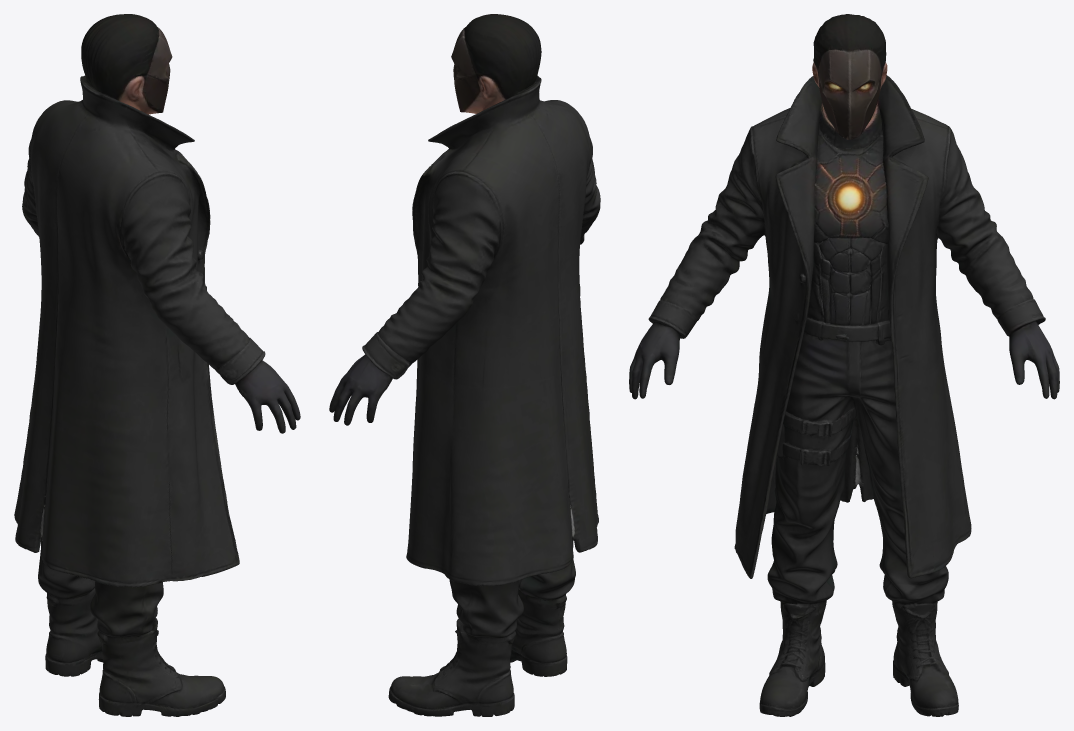
The model's file is arch.web.webp.glb.
3 renders of one model, left to right at view 1: azimuth 30°, elevation 25°; view 2: azimuth 150°, elevation 25°; view 3: azimuth 270°, elevation 25°, orthographic.
Size of the model in its own units: 0.2502 by 0.9994 by 0.5794.
Materials: 1 (1 with a texture image).
